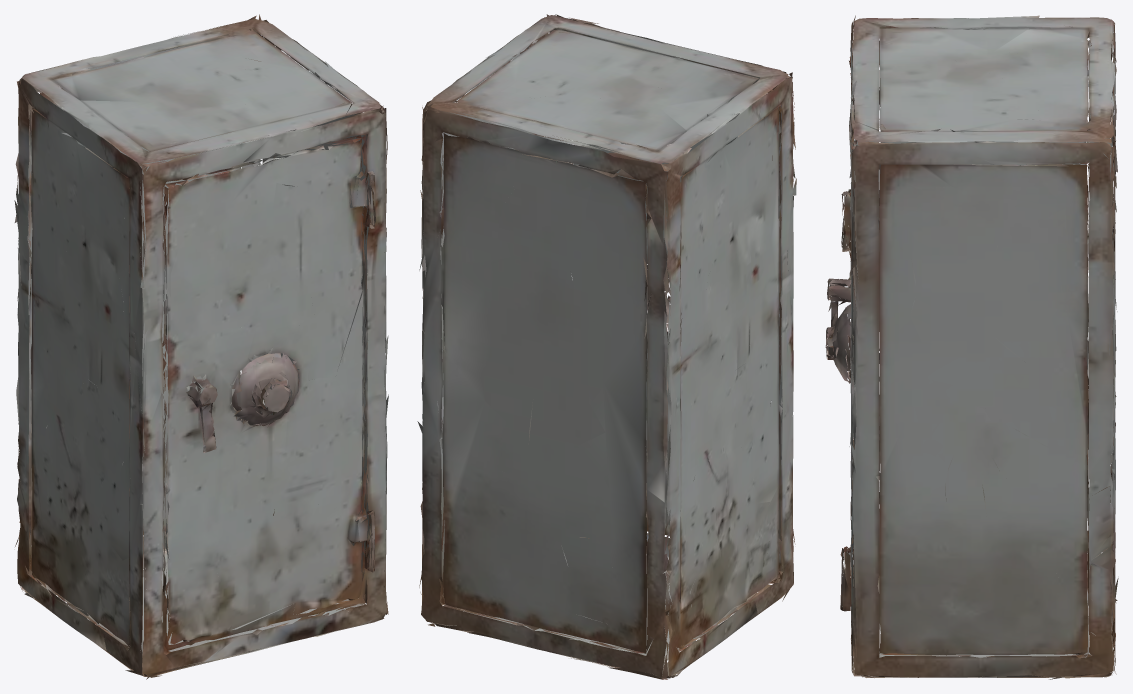
The model's file is safe_cabinet.glb.
3 views of the same model, side by side, from view 1: azimuth 30°, elevation 25°; view 2: azimuth 150°, elevation 25°; view 3: azimuth 270°, elevation 25° (orthographic). The views are drawn at different scales.
Parts seen in each view (by area): view 1: safe_cabinet; view 2: safe_cabinet; view 3: safe_cabinet.
Boxes of the visible parts, x1,y1,x2,y2 form: safe_cabinet: (14,14,388,679); safe_cabinet: (417,14,796,679); safe_cabinet: (825,15,1118,679).
Size of the model in its own units: 0.7944 by 1.56 by 0.7657.
Materials: 1 (1 with a texture image).
